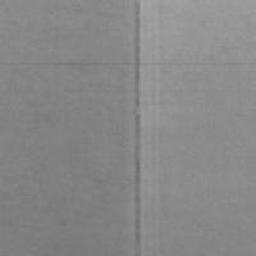Welding line: (132, 0, 143, 256)
